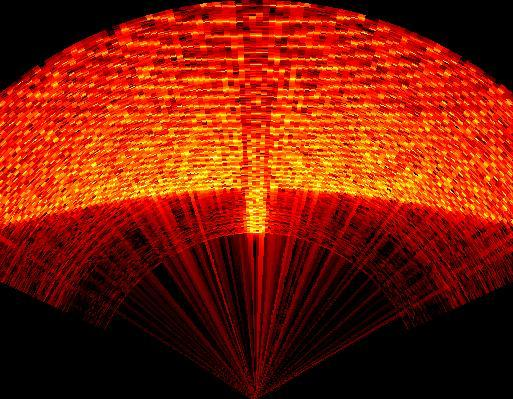pipe: (236, 2, 281, 231)
